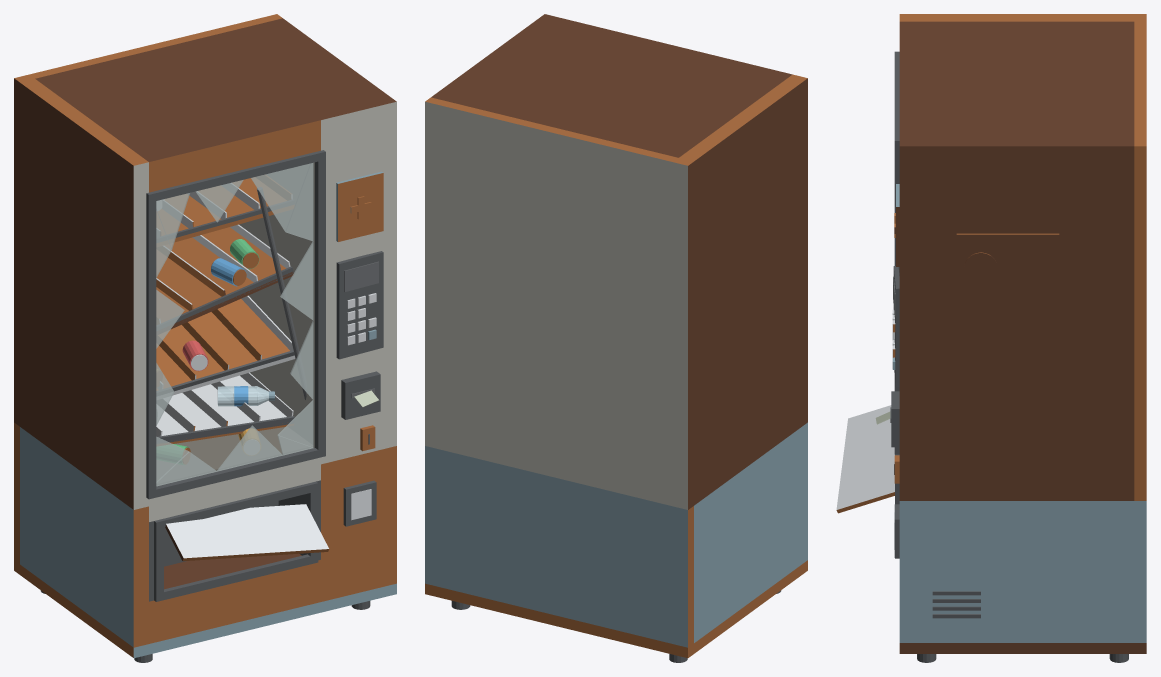
Rendered from vending_machine_v2.fbx.
3 renders of one model, left to right at view 1: azimuth 30°, elevation 25°; view 2: azimuth 150°, elevation 25°; view 3: azimuth 270°, elevation 25°, orthographic. The views are drawn at different scales.
Visible parts, largest first — view 1: 02_VendingMachine_Damaged_Mesh; view 2: 02_VendingMachine_Damaged_Mesh; view 3: 02_VendingMachine_Damaged_Mesh.
Boxes of the visible parts, bbox=[...] form: 02_VendingMachine_Damaged_Mesh: bbox=[14, 14, 396, 662]; 02_VendingMachine_Damaged_Mesh: bbox=[425, 14, 807, 662]; 02_VendingMachine_Damaged_Mesh: bbox=[836, 14, 1146, 662].
Bounding box in the file's own units: 105 × 192 × 103.
